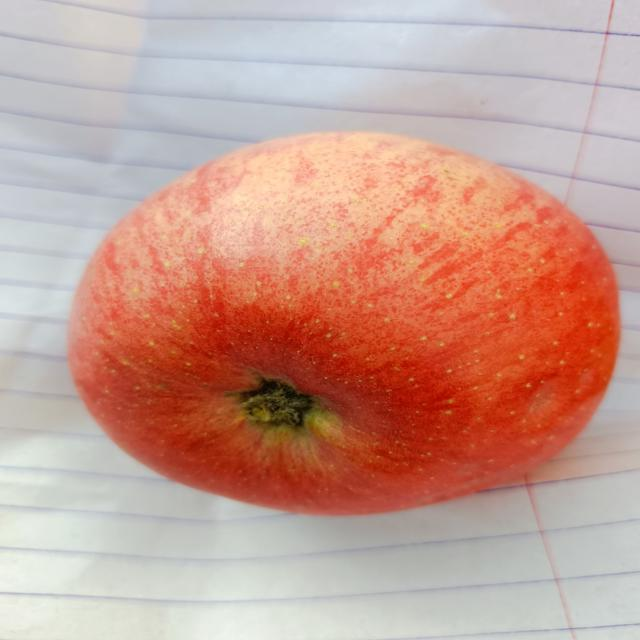Fresh Apple: (80, 133, 617, 542)
